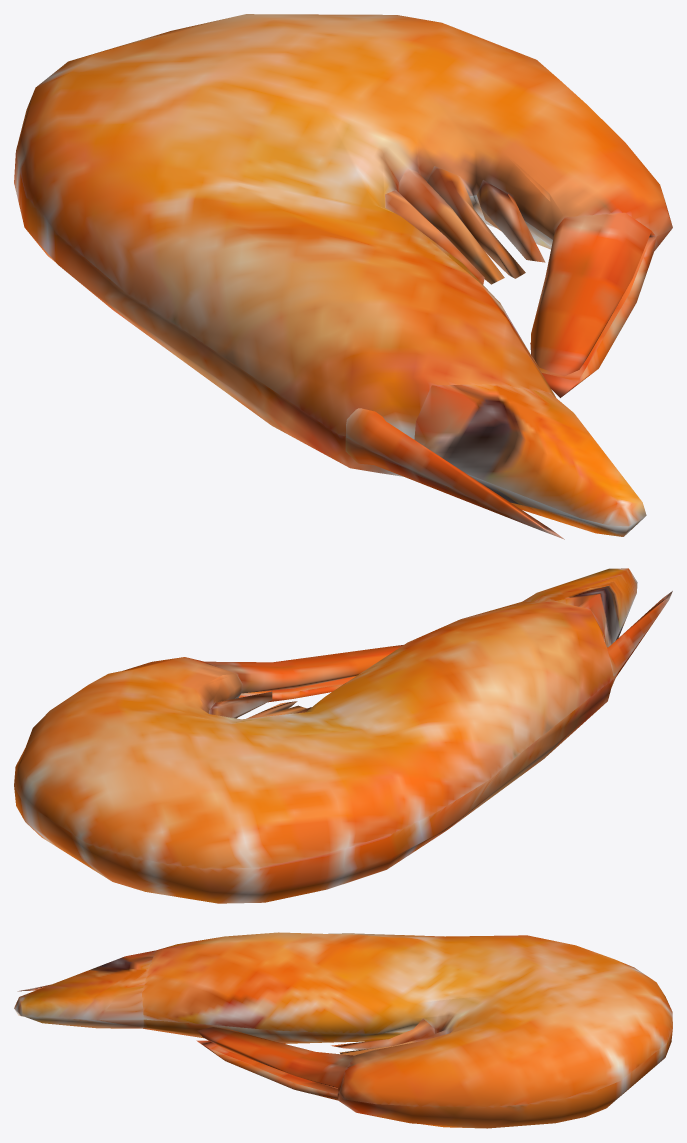
The model's file is ref_shrimp.glb.
3 views of the same model, one above another, from view 1: azimuth 30°, elevation 25°; view 2: azimuth 150°, elevation 25°; view 3: azimuth 270°, elevation 25° (orthographic). The views are drawn at different scales.
Visible parts, largest first — view 1: ref_shrimp_part0; view 2: ref_shrimp_part0; view 3: ref_shrimp_part0.
Part boxes in pixels (x1,y1,x2,y2): ref_shrimp_part0: (14, 14, 672, 539); ref_shrimp_part0: (14, 568, 672, 903); ref_shrimp_part0: (14, 932, 672, 1128).
Bounding box in the file's own units: 0.5295 × 0.1619 × 1.
1 material, 1 textured.
